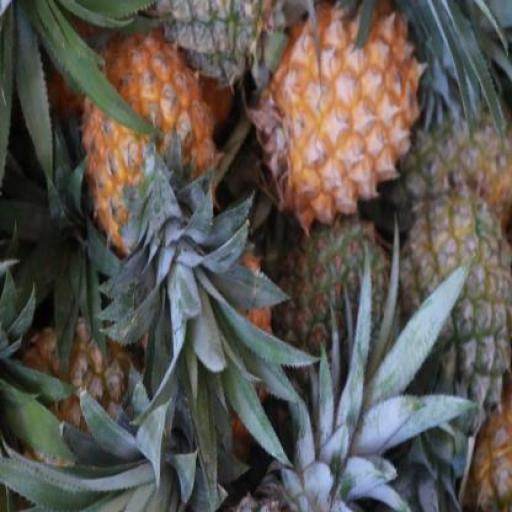------------------------------: (397, 198, 509, 438)
Pineapple - v8 v1: (256, 0, 420, 229), (81, 34, 219, 253)
